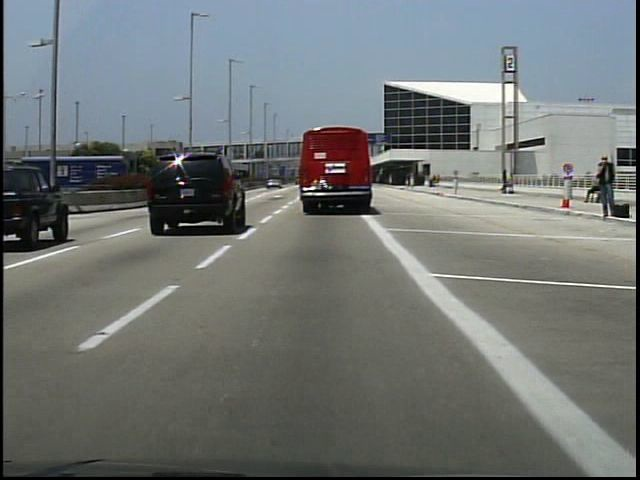person: (592, 151, 620, 222), (580, 170, 605, 205)
